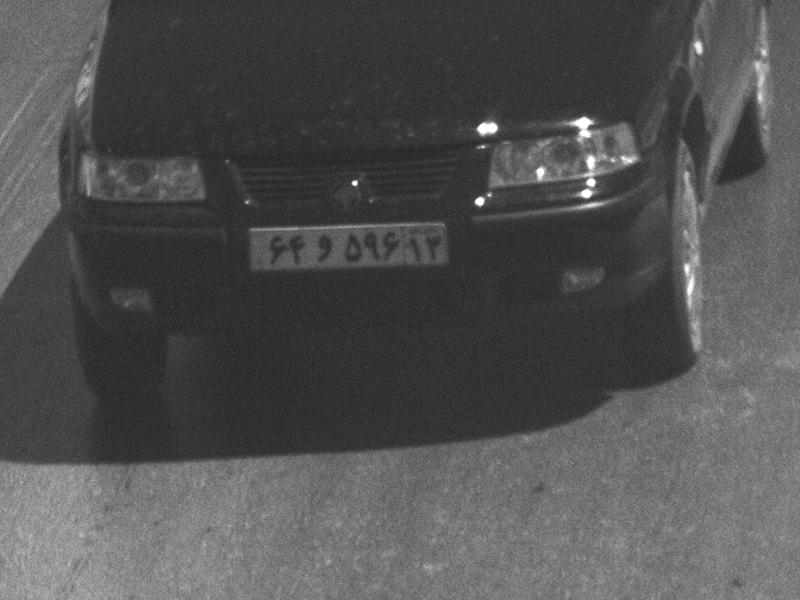Plate: (251, 229, 444, 271)
